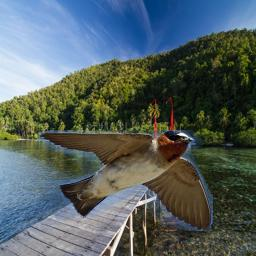Swallow: (37, 130, 213, 231)
